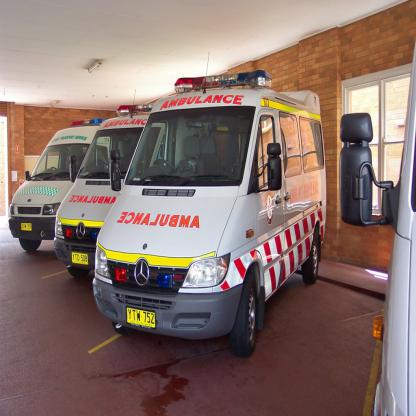Ambulance: (7, 52, 327, 358)
